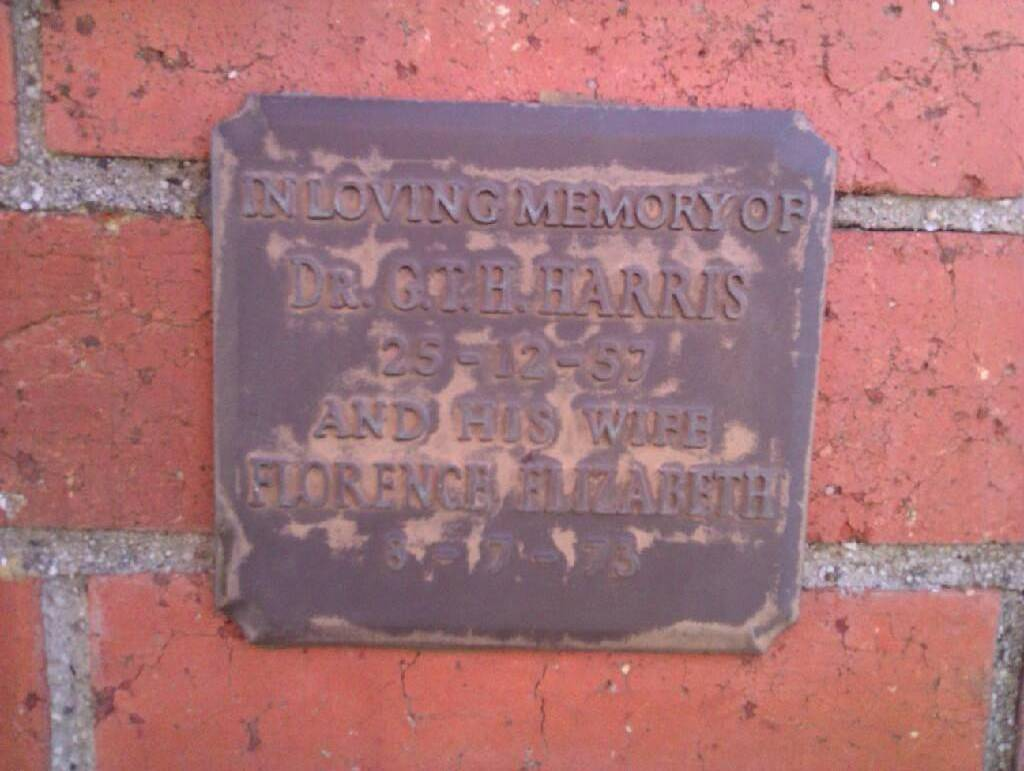plaque: (210, 93, 834, 651)
